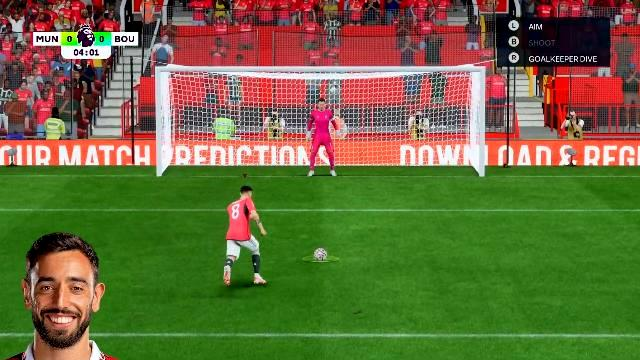bottom-left: (162, 131, 272, 180)
bottom-right: (366, 130, 479, 178)
center-down: (272, 131, 364, 180)
center-up: (272, 72, 366, 130)
circle: (303, 255, 339, 263)
football: (313, 249, 327, 260)
goalkeeper: (305, 99, 341, 177)
player: (221, 184, 269, 292)
top-left: (162, 72, 272, 128)
top-right: (366, 72, 478, 128)
